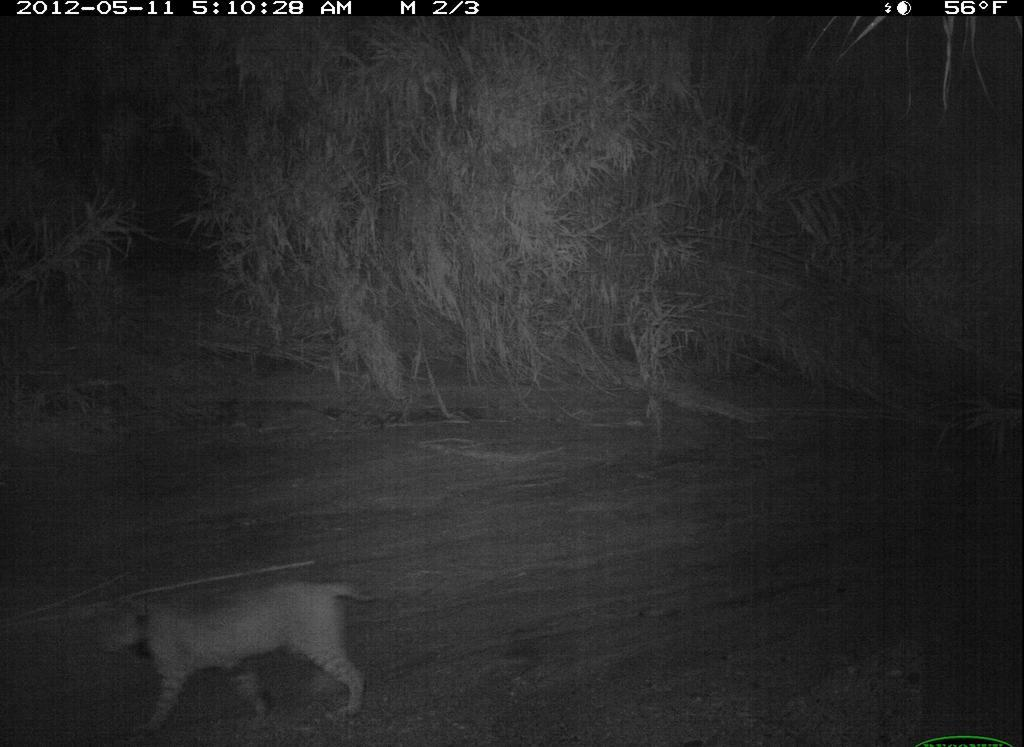bobcat: (84, 568, 391, 737)
